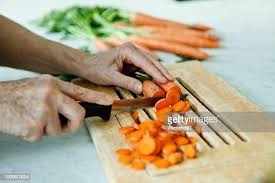knife: (51, 93, 189, 125)
